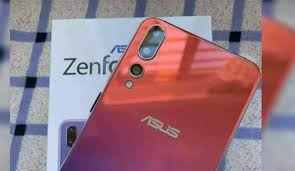asus: (49, 15, 263, 171)
